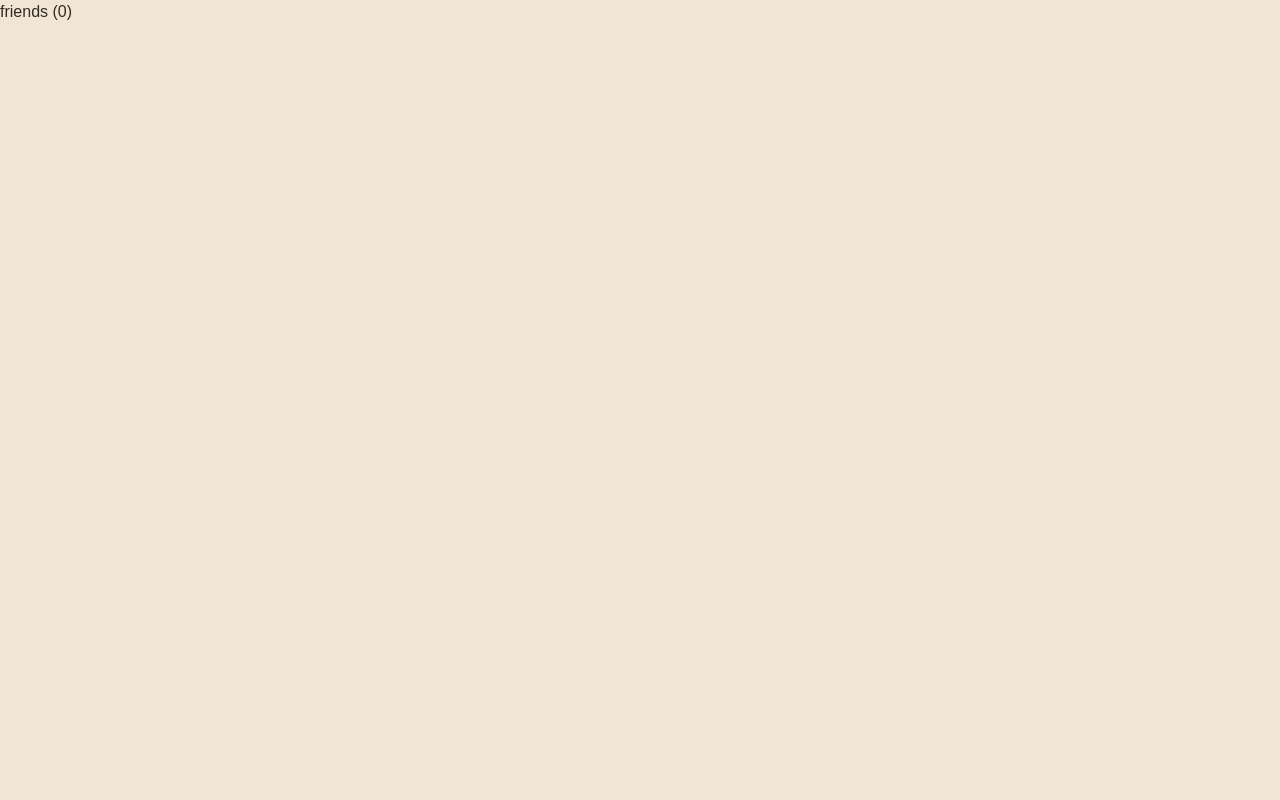
Test: FriendsPanel › search › shows each friendship status
Later steps or results of the test are not shown.
Click the button "friends (0)": (36, 12) [0,0,72,24]
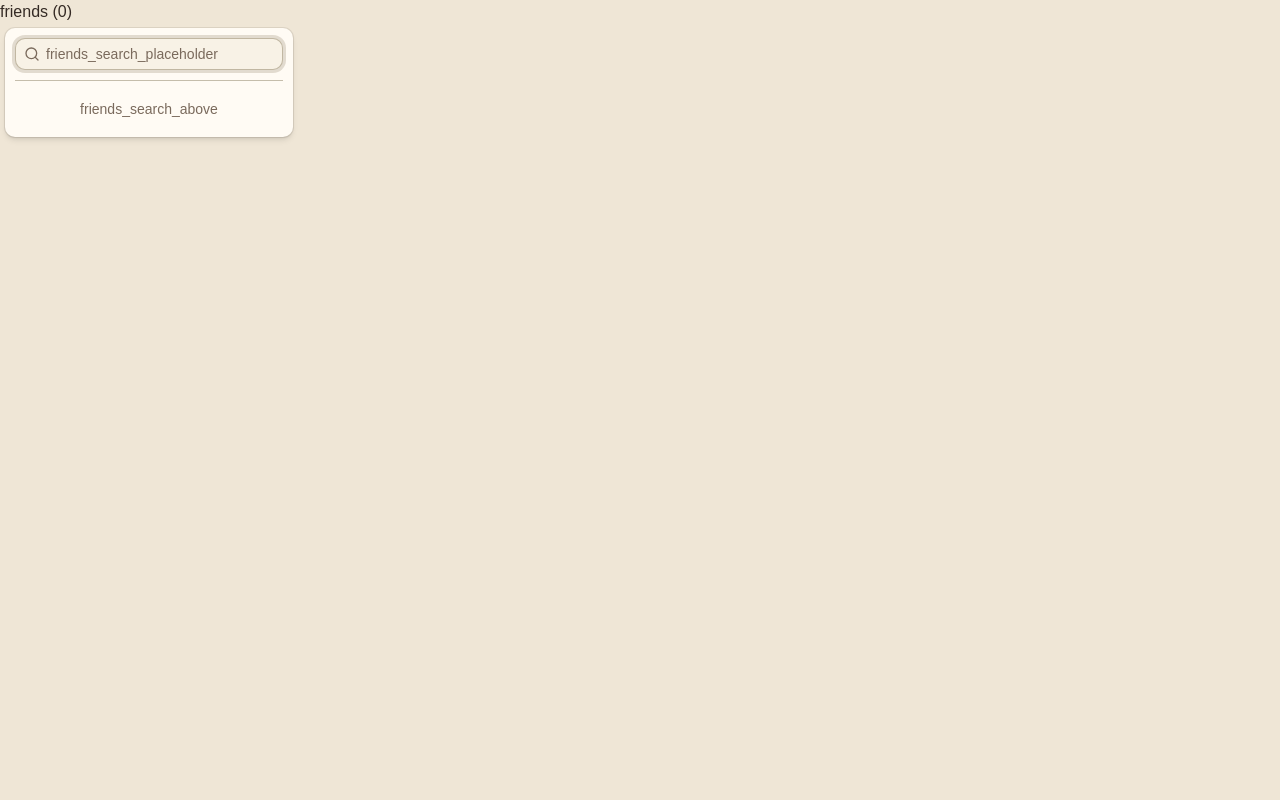
In the field with placeholder "friends_search_placeholder": (161, 54) [40,38,282,70], type "user"
Wait 400 ms
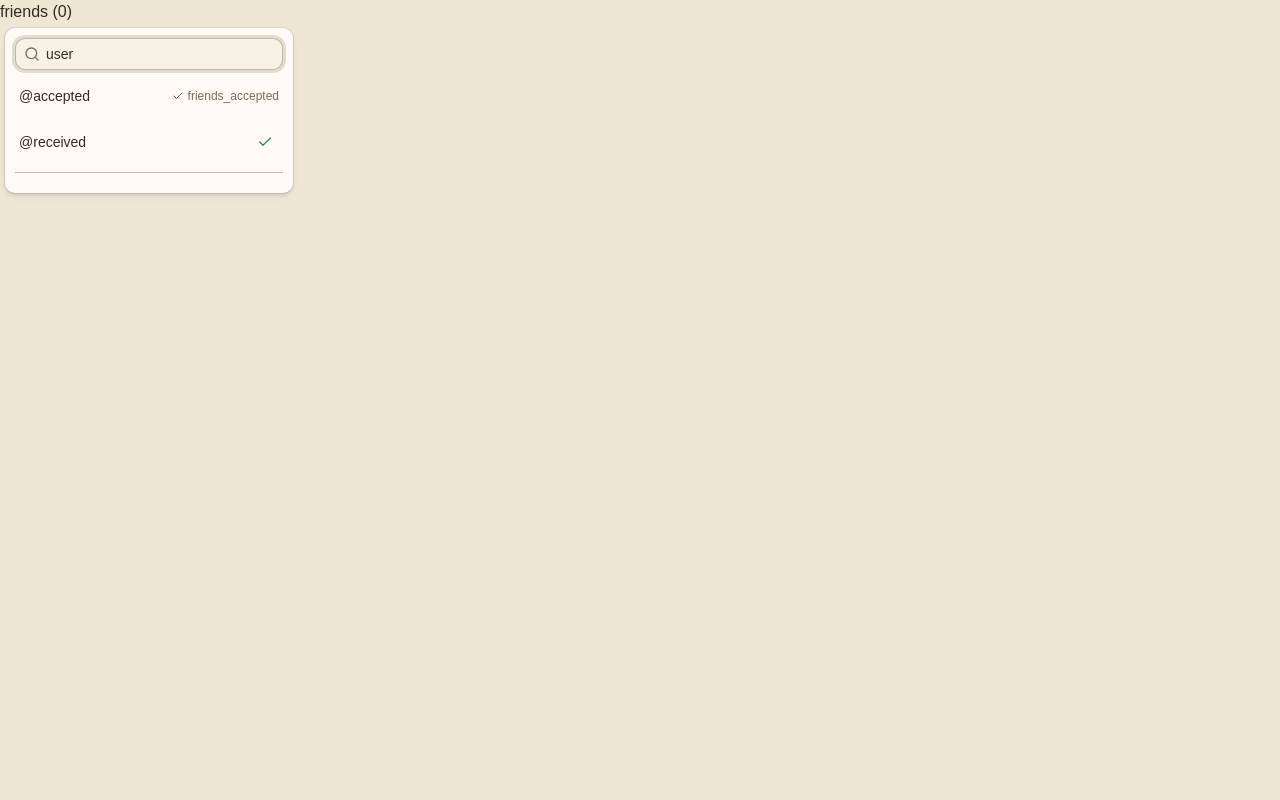
expect the text "friends_accepted" is shown: met, box [172,88,279,104]
